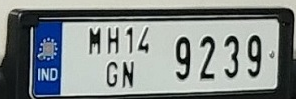1: (124, 24, 136, 55)
2: (198, 35, 215, 83)
3: (223, 35, 242, 79)
4: (137, 25, 151, 54)
9: (175, 36, 192, 81), (246, 34, 263, 79)
G: (106, 59, 120, 88)
H: (106, 26, 122, 55)
M: (87, 25, 103, 56)
N: (121, 61, 136, 90)
